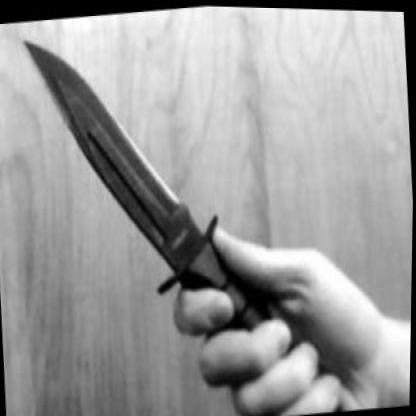knife: (11, 0, 359, 415)
